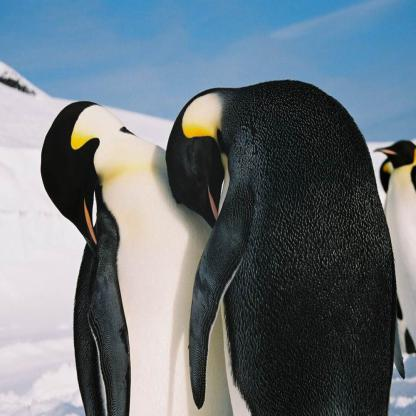Penguin: (150, 66, 416, 416), (29, 88, 245, 415)
